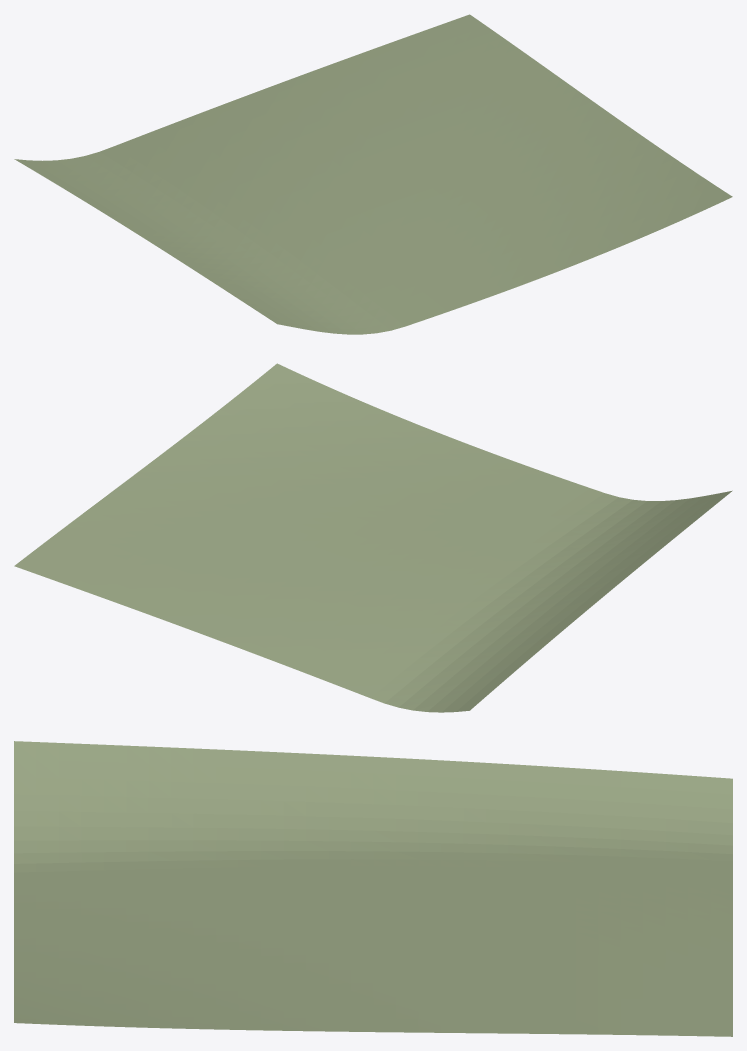
Rendered from alpine-3-4.glb.
The picture shows the model from 3 angles, top to bottom: view 1: azimuth 30°, elevation 25°; view 2: azimuth 150°, elevation 25°; view 3: azimuth 270°, elevation 25°; orthographic projection. The views are drawn at different scales.
Visible parts, largest first — view 1: alpine-3-4; view 2: alpine-3-4; view 3: alpine-3-4.
Boxes of the visible parts, left/top/right/bottom form: alpine-3-4: left=14, top=14, right=732, bottom=334; alpine-3-4: left=14, top=363, right=732, bottom=712; alpine-3-4: left=14, top=741, right=732, bottom=1036.
Size of the model in its own units: 256 by 31.01 by 256.
